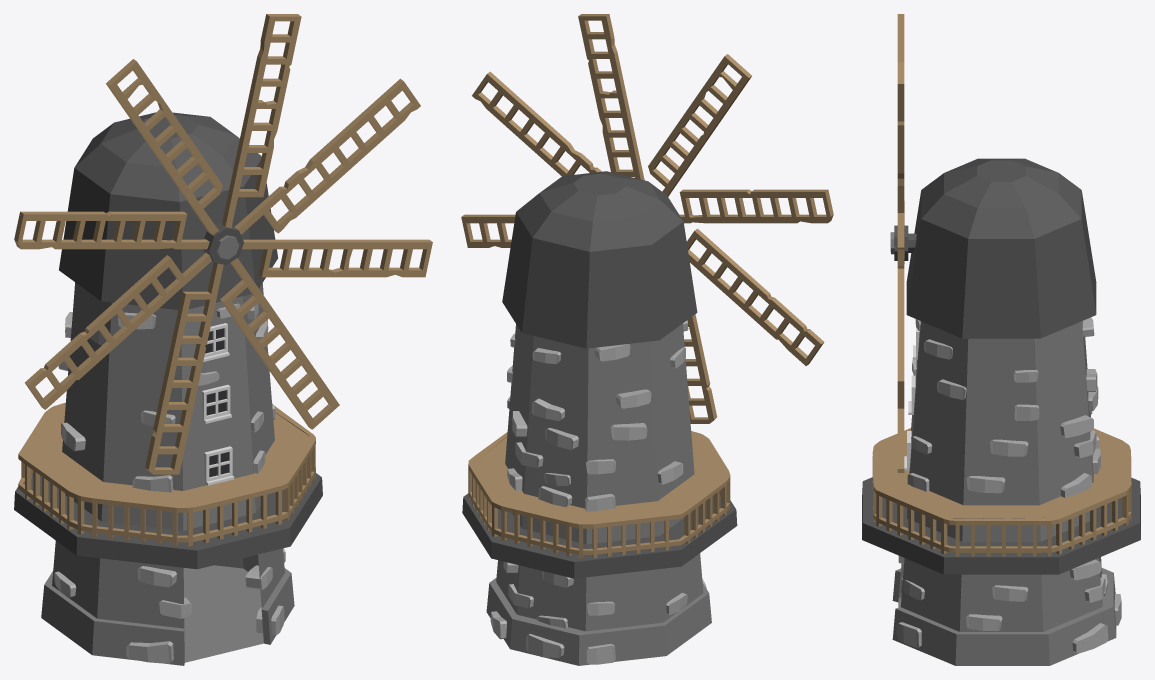
File: windmill.fbx
3 renders of one model, left to right at view 1: azimuth 30°, elevation 25°; view 2: azimuth 150°, elevation 25°; view 3: azimuth 270°, elevation 25°, orthographic. The views are drawn at different scales.
Parts seen in each view (by area): view 1: TowerWindmill, TowerWindmill_Blades.001; view 2: TowerWindmill, TowerWindmill_Blades.001; view 3: TowerWindmill, TowerWindmill_Blades.001.
Part boxes in pixels (box(x1,y1,x2,y2)): TowerWindmill: box(14, 112, 322, 665); TowerWindmill_Blades.001: box(14, 14, 432, 474); TowerWindmill: box(462, 171, 737, 665); TowerWindmill_Blades.001: box(461, 14, 833, 423); TowerWindmill: box(862, 158, 1140, 665); TowerWindmill_Blades.001: box(897, 14, 904, 472).
Bounding box in the file's own units: 792 × 1141 × 499.
